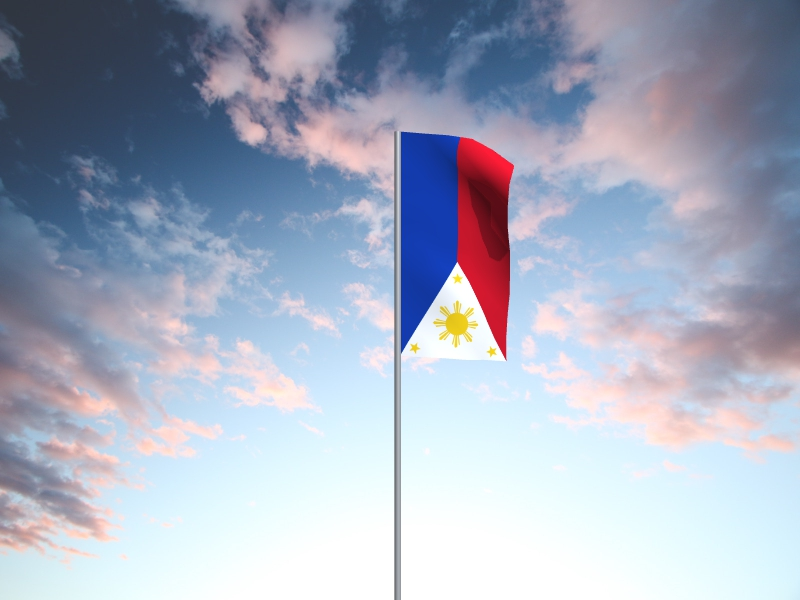ph: (401, 132, 516, 363)
